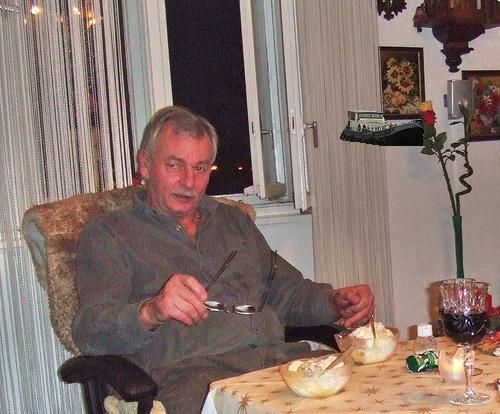tampered: (341, 106, 426, 146)
